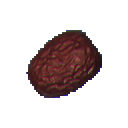gd: (14, 22, 113, 125)
